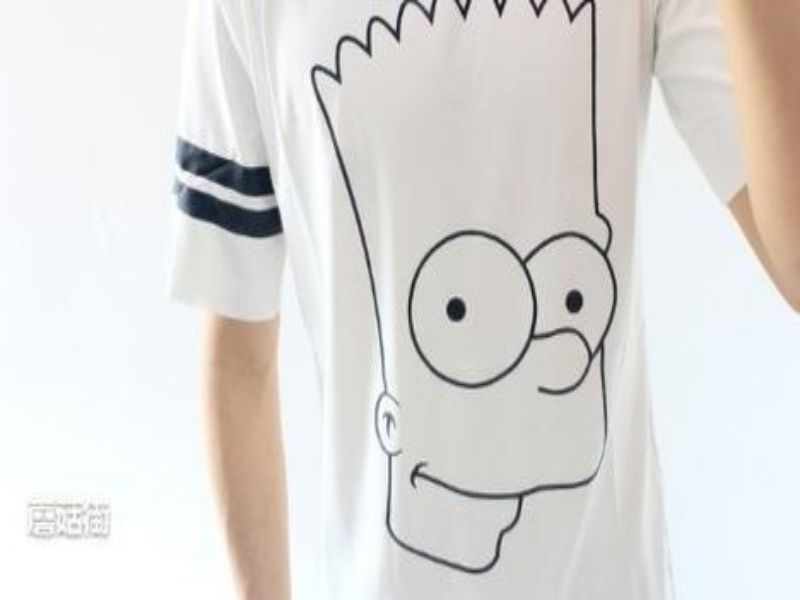short_sleeved_shirt: (171, 2, 745, 598)
